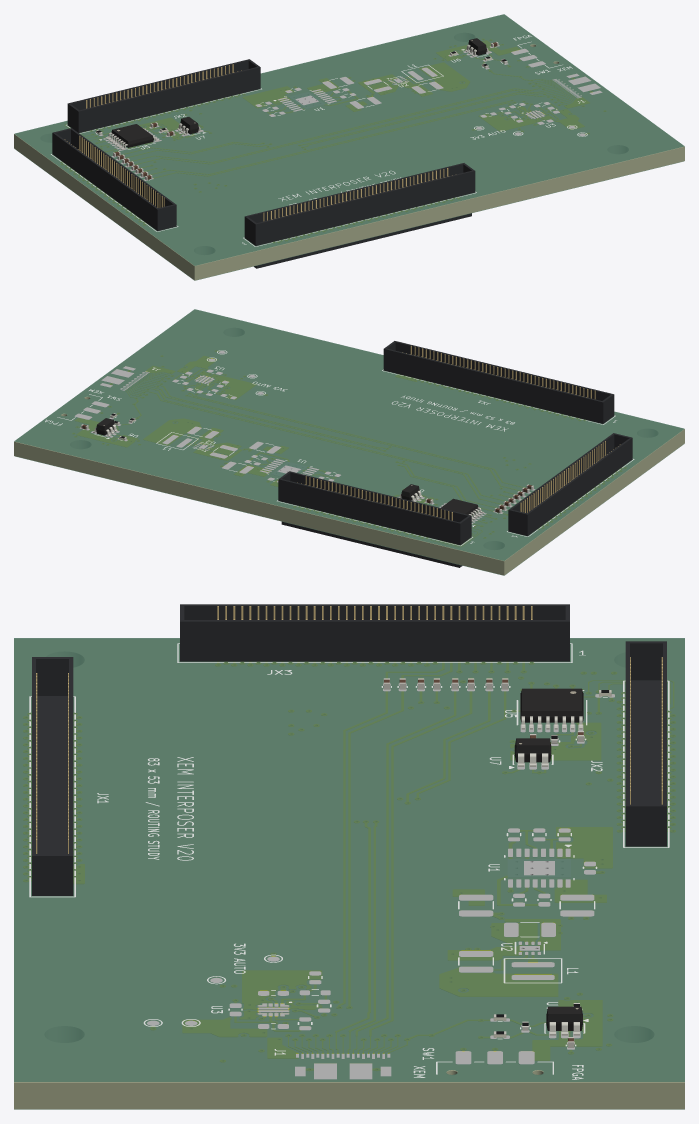
File: Interposer_V20_Public.glb
The picture shows the model from 3 angles, top to bottom: view 1: azimuth 30°, elevation 25°; view 2: azimuth 150°, elevation 25°; view 3: azimuth 270°, elevation 25°; orthographic projection. The views are drawn at different scales.
Parts seen in each view (by area): view 1: =>[0:1:1:17], =>[0:1:1:19], JX1, JX2, JX3, =>[0:1:1:12], =>[0:1:1:13], =>[0:1:1:15], =>[0:1:1:9], JB1, =>[0:1:1:18]; view 2: =>[0:1:1:17], =>[0:1:1:19], JX1, JX2, JX3, =>[0:1:1:12], =>[0:1:1:13], =>[0:1:1:15], JB2, =>[0:1:1:18], =>[0:1:1:9]; view 3: =>[0:1:1:17], =>[0:1:1:19], JX3, =>[0:1:1:12], JX1, =>[0:1:1:13], JX2, =>[0:1:1:15], =>[0:1:1:9], =>[0:1:1:11] (×2).
Part boxes in pixels (x1,y1,x2,y2): =>[0:1:1:17]: (14,14,684,265); =>[0:1:1:19]: (14,15,684,280); JX1: (244,163,475,245); JX2: (67,59,260,132); JX3: (52,128,176,230); =>[0:1:1:12]: (63,41,591,240); =>[0:1:1:13]: (95,45,602,180); =>[0:1:1:15]: (51,35,587,246); =>[0:1:1:9]: (105,124,159,149); JB1: (254,213,471,268); =>[0:1:1:18]: (15,149,683,280); =>[0:1:1:17]: (14,309,684,560); =>[0:1:1:19]: (14,310,684,575); JX1: (383,341,614,423); JX2: (278,471,471,545); JX3: (508,433,632,535); =>[0:1:1:12]: (75,356,613,534); =>[0:1:1:13]: (74,351,534,524); =>[0:1:1:15]: (45,350,634,545); JB2: (281,521,462,567); =>[0:1:1:18]: (15,444,683,575); =>[0:1:1:9]: (440,498,484,521); =>[0:1:1:17]: (14,638,684,1081); =>[0:1:1:19]: (14,639,684,1109); JX3: (180,604,569,661); =>[0:1:1:12]: (23,663,675,1070); JX1: (32,657,73,895); =>[0:1:1:13]: (147,683,614,1079); JX2: (625,641,666,846); =>[0:1:1:15]: (29,643,669,1079); =>[0:1:1:9]: (520,688,583,729); =>[0:1:1:11] (×2): (514,738,582,1035).
Size of the model in its own units: 0.083 by 0.0074 by 0.053.
